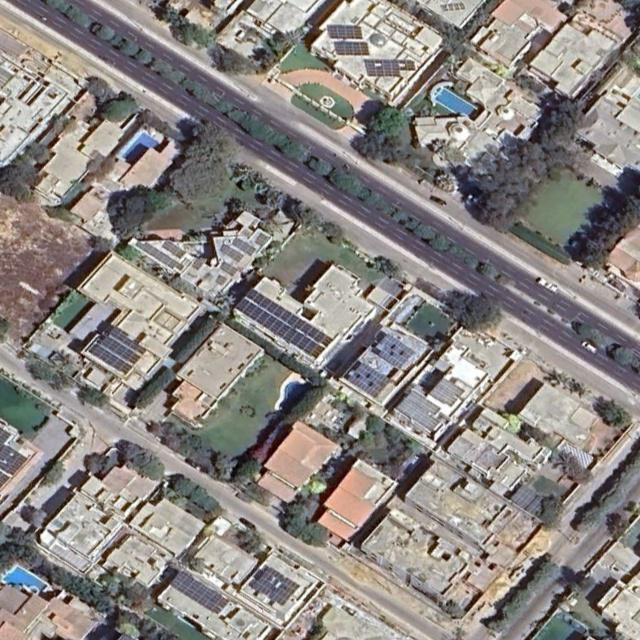solar panel: (235, 286, 334, 361), (170, 569, 230, 616), (395, 387, 446, 435), (248, 563, 299, 608), (347, 358, 390, 399), (374, 333, 416, 372), (0, 424, 30, 478), (136, 238, 183, 272), (511, 484, 549, 519), (91, 344, 132, 375), (428, 375, 464, 409), (102, 335, 140, 365), (110, 326, 148, 354), (365, 60, 415, 76), (327, 25, 363, 40), (335, 41, 369, 56), (219, 243, 243, 263), (162, 239, 185, 259), (232, 237, 255, 256), (220, 260, 238, 276), (253, 231, 270, 247), (0, 469, 10, 489), (215, 274, 226, 285)
